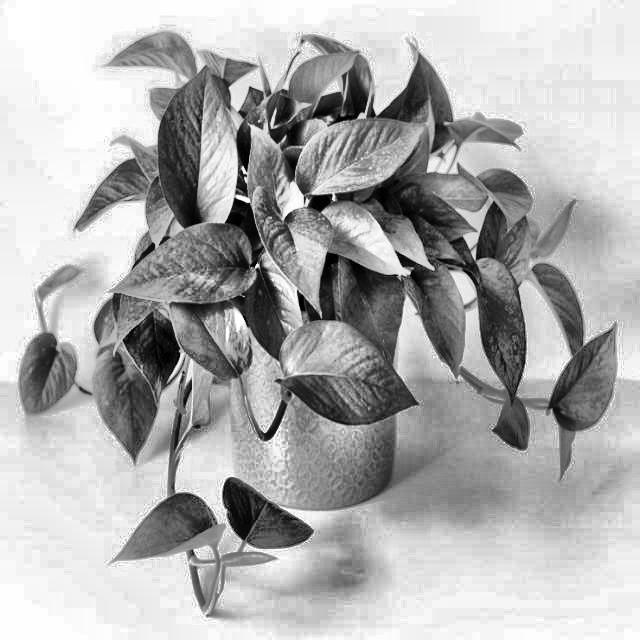plants: (32, 28, 606, 610)
